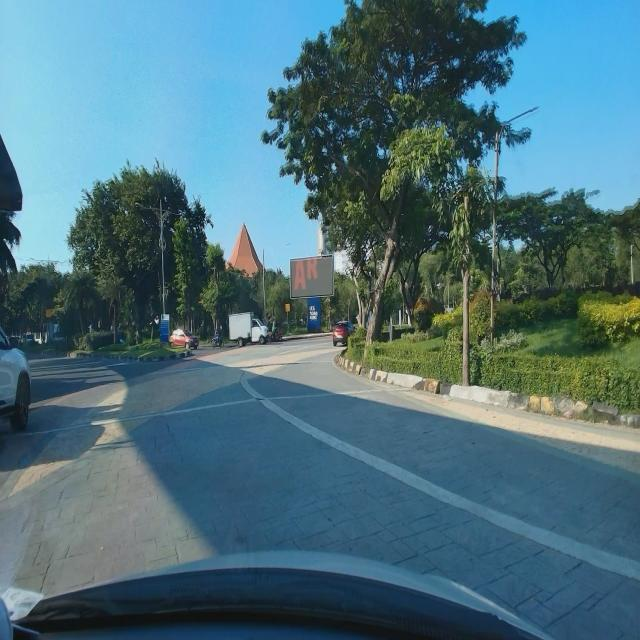car: (332, 319, 357, 347)
